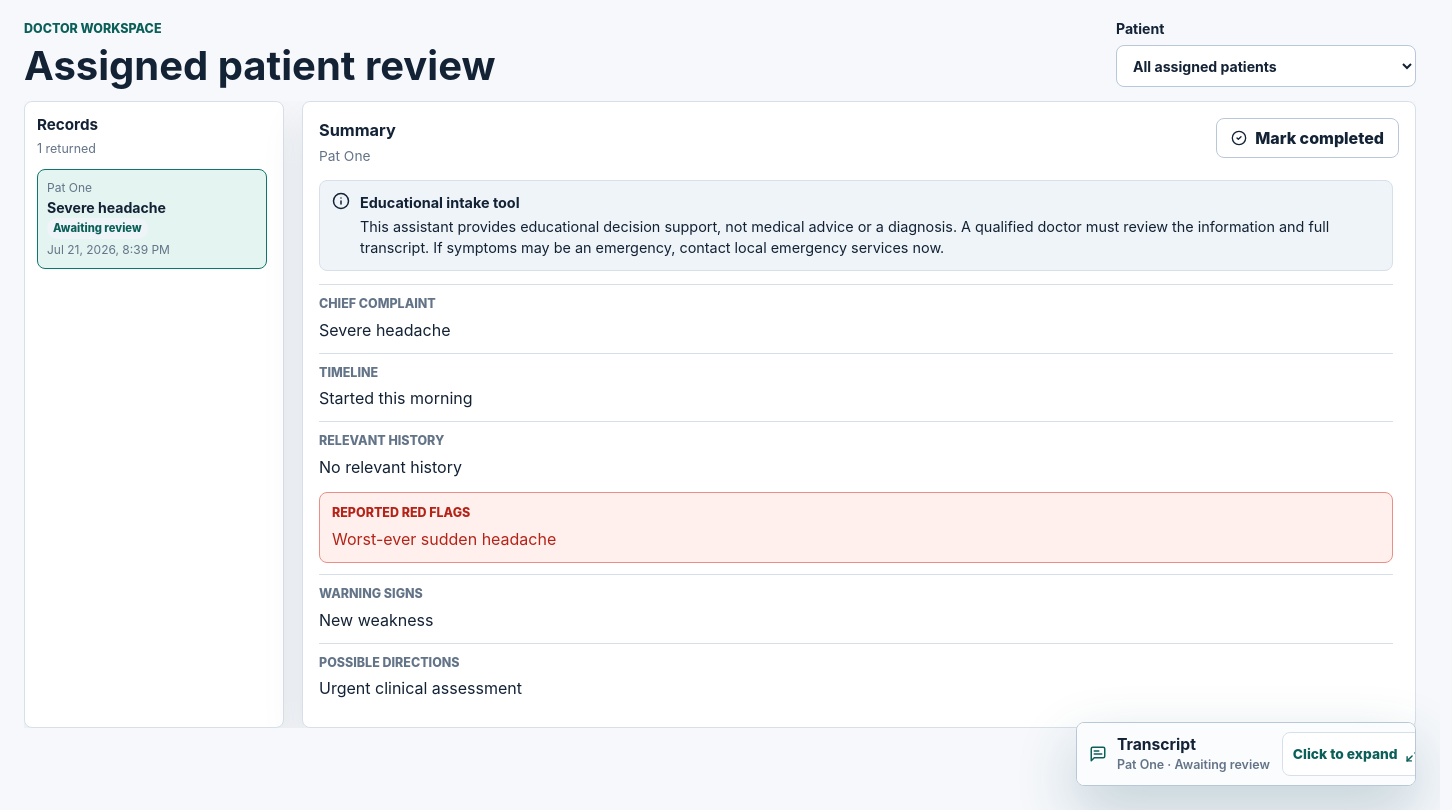
DoctorDashboard › shows a transcript, completion action, and every summary field
The image size is (1452, 810).
Expected: the text "Urgent clinical assessment" is shown, [319,678,522,698]
Expected: the heading "Records" is shown, [37,114,98,137]
Click the button "Expand transcript" at (1156, 744), box [1077,723,1440,785]
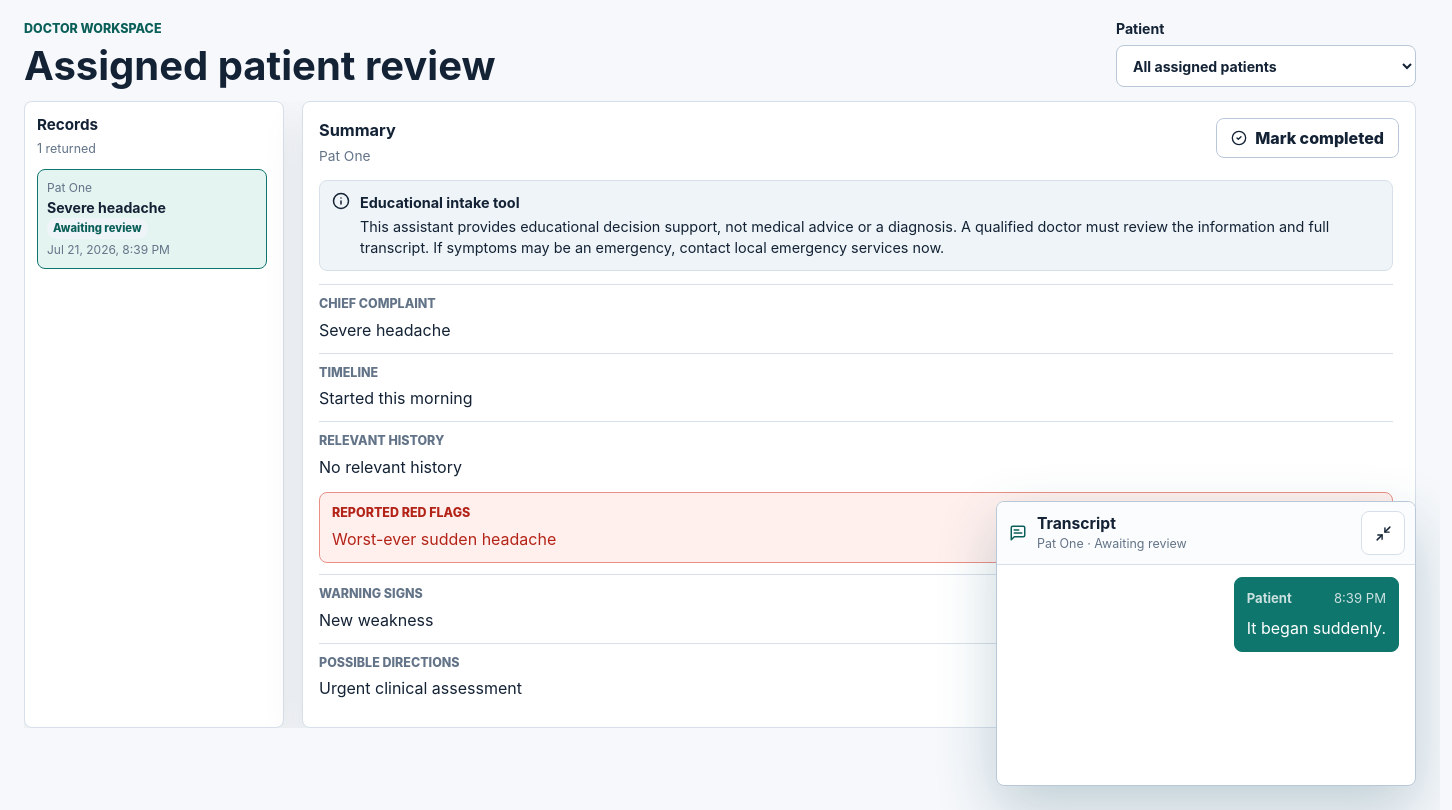
Expected: the text "It began suddenly." is shown, [1247,616,1386,640]
Expected: the button named "Minimize transcript" is shown
Click the button named "Minimize transcript" at (1383, 533), box [1361,511,1405,555]
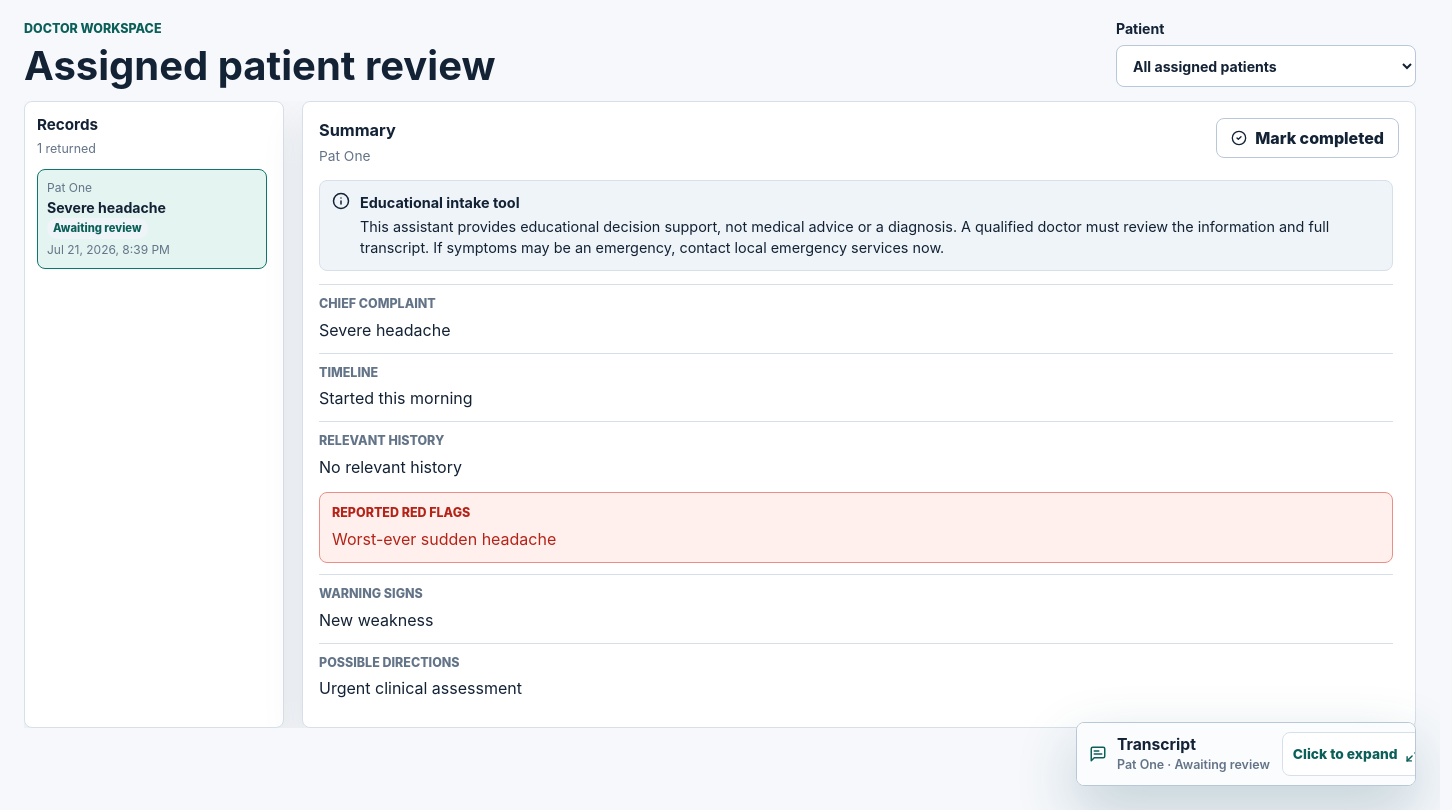
Expected: the text "It began suddenly." is gone
